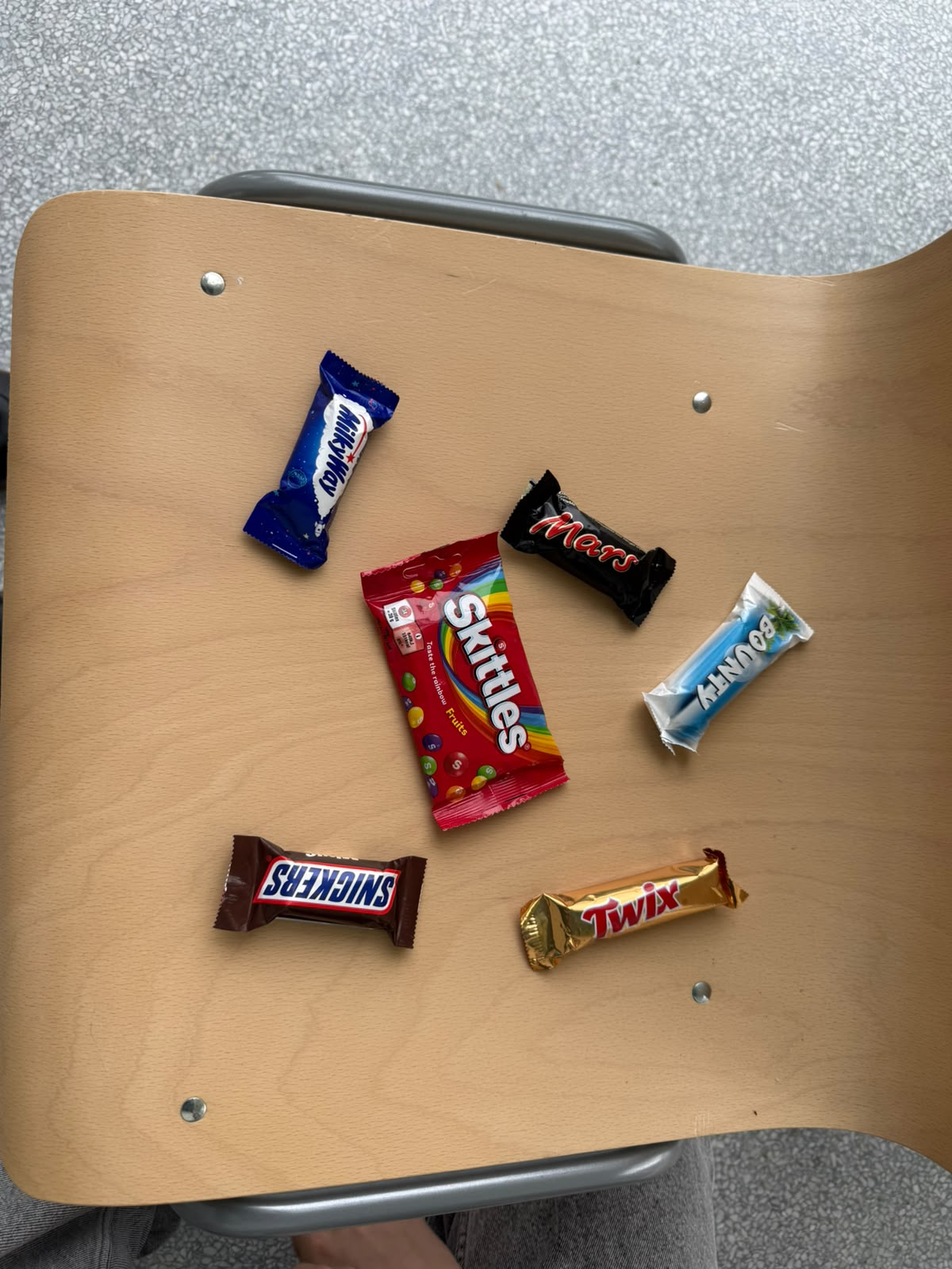Bounty: (620, 709, 834, 794)
Mars: (503, 430, 760, 537)
MilkyWay: (301, 317, 448, 565)
Skittles: (304, 571, 536, 890)
Snickers: (215, 818, 442, 965)
Twix: (470, 907, 759, 995)
